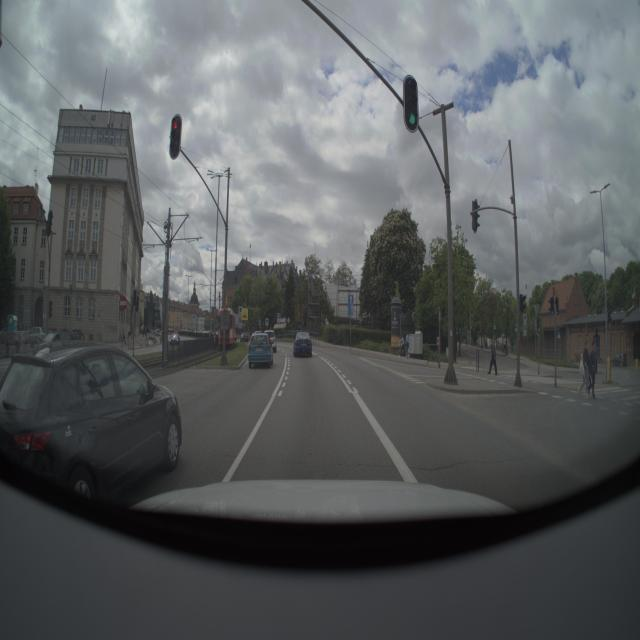green_light: (394, 70, 424, 136)
red_light: (164, 109, 188, 162)
